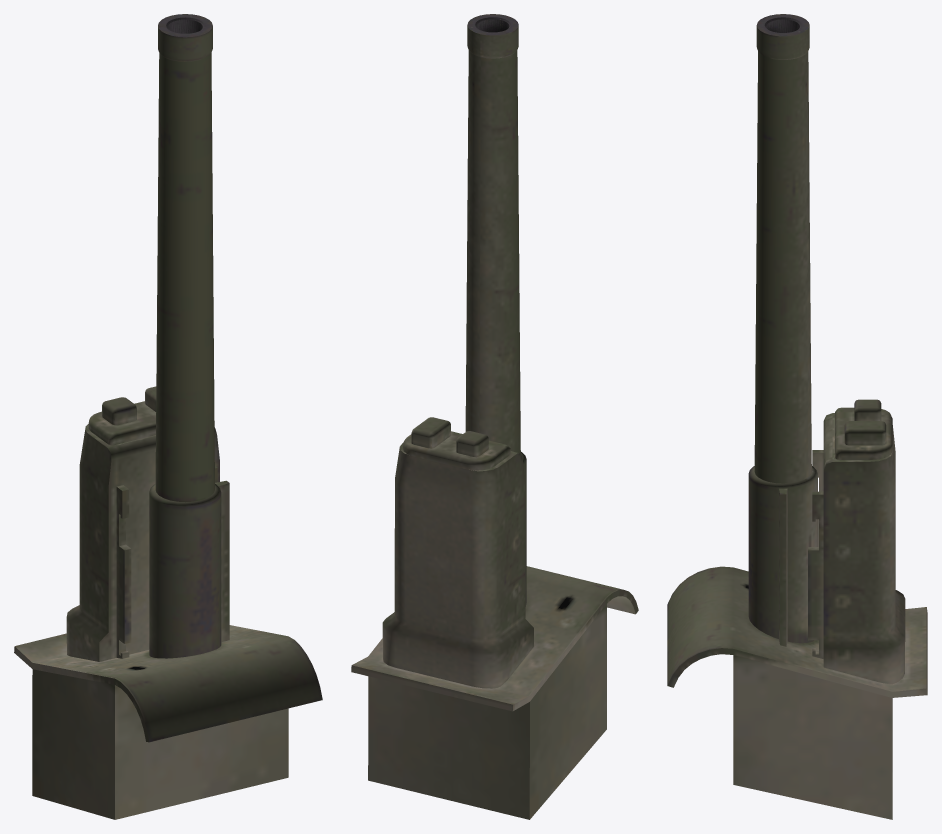
File: Gun_08.glb
3 renders of one model, left to right at view 1: azimuth 30°, elevation 25°; view 2: azimuth 150°, elevation 25°; view 3: azimuth 270°, elevation 25°, orthographic. The views are drawn at different scales.
Parts seen in each view (by area): view 1: set_0_group_0; view 2: set_0_group_0; view 3: set_0_group_0.
Part boxes in pixels (x1,y1,x2,y2): set_0_group_0: [14, 14, 322, 819]; set_0_group_0: [351, 14, 638, 819]; set_0_group_0: [667, 14, 927, 819].
Bounding box in the file's own units: 0.4344 × 1.89 × 0.5867.
1 material, 1 textured.
